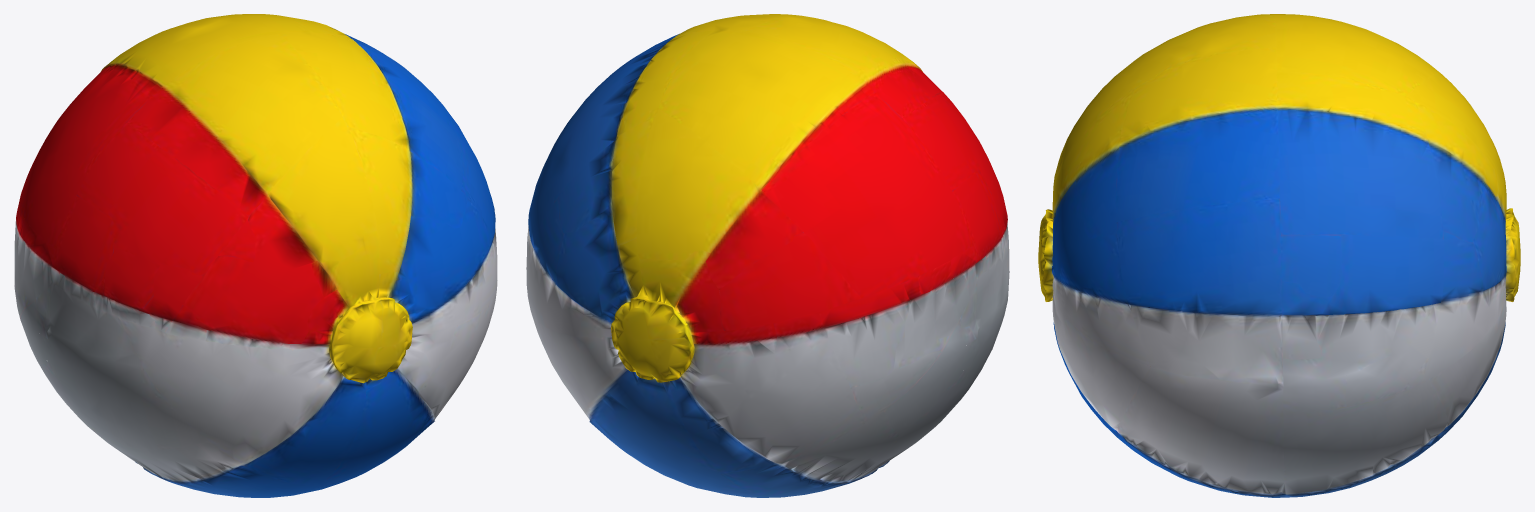
The model's file is beachball.glb.
The picture shows the model from 3 angles, left to right: view 1: azimuth 30°, elevation 25°; view 2: azimuth 150°, elevation 25°; view 3: azimuth 270°, elevation 25°; orthographic projection.
Parts seen in each view (by area): view 1: prop; view 2: prop; view 3: prop.
Part boxes in pixels (x1,y1,x2,y2): prop: (14,14,497,497); prop: (526,14,1009,497); prop: (1038,14,1520,497).
Size of the model in its own units: 1 by 1 by 0.9963.
Materials: 1 (1 with a texture image).
